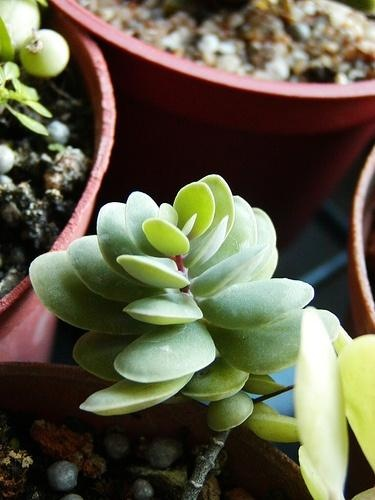pottedplant: (1, 177, 332, 500), (45, 1, 371, 269), (1, 1, 121, 366), (345, 142, 375, 468)
